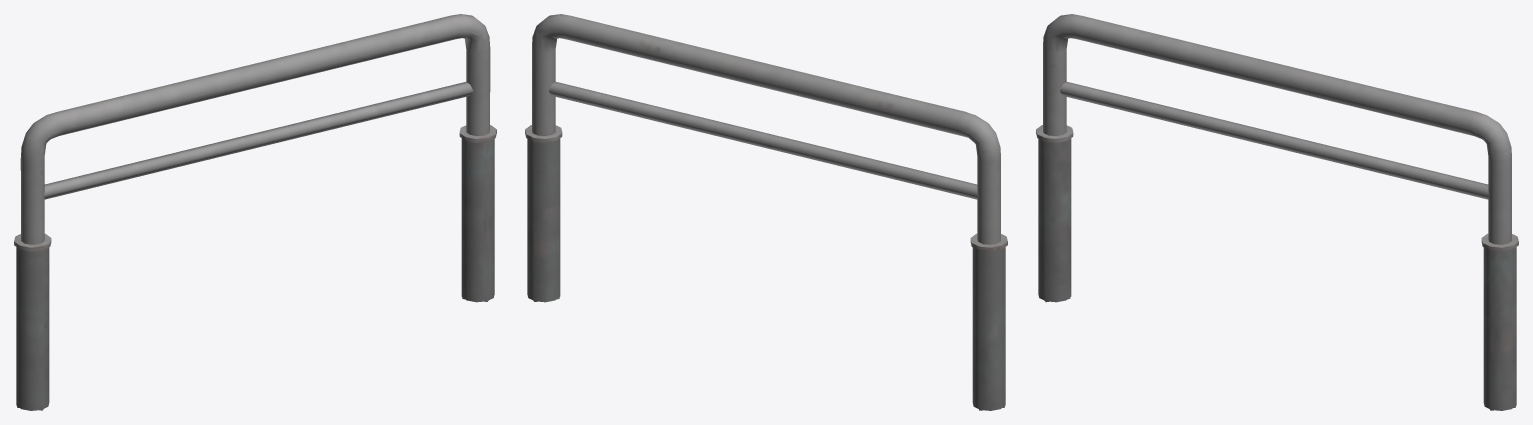
Rendered from objects_un_t05carpole01.gltf.
The picture shows the model from 3 angles, left to right: view 1: azimuth 30°, elevation 25°; view 2: azimuth 150°, elevation 25°; view 3: azimuth 330°, elevation 25°; orthographic projection.
Parts seen in each view (by area): view 1: um_objects_un_t05carpole01_model_lod0Shape:objects_un_t05car, um_objects_un_t05carpole01_model_lod1Shape:objects_un_t05car, um_objects_un_t05carpole01_model_lod2Shape:objects_un_t05car; view 2: um_objects_un_t05carpole01_model_lod0Shape:objects_un_t05car, um_objects_un_t05carpole01_model_lod1Shape:objects_un_t05car, um_objects_un_t05carpole01_model_lod2Shape:objects_un_t05car; view 3: um_objects_un_t05carpole01_model_lod0Shape:objects_un_t05car, um_objects_un_t05carpole01_model_lod1Shape:objects_un_t05car, um_objects_un_t05carpole01_model_lod2Shape:objects_un_t05car.
Part boxes in pixels (x1,y1,x2,y2): um_objects_un_t05carpole01_model_lod0Shape:objects_un_t05car: (14,14,496,410); um_objects_un_t05carpole01_model_lod1Shape:objects_un_t05car: (20,14,490,244); um_objects_un_t05carpole01_model_lod2Shape:objects_un_t05car: (17,31,490,410); um_objects_un_t05carpole01_model_lod0Shape:objects_un_t05car: (525,14,1007,410); um_objects_un_t05carpole01_model_lod1Shape:objects_un_t05car: (532,15,1000,244); um_objects_un_t05carpole01_model_lod2Shape:objects_un_t05car: (532,32,1004,410); um_objects_un_t05carpole01_model_lod0Shape:objects_un_t05car: (1036,14,1518,410); um_objects_un_t05carpole01_model_lod1Shape:objects_un_t05car: (1043,15,1511,244); um_objects_un_t05carpole01_model_lod2Shape:objects_un_t05car: (1039,32,1515,410).
Size of the model in its own units: 4.06 by 2.32 by 0.282.
1 material, 1 textured.
